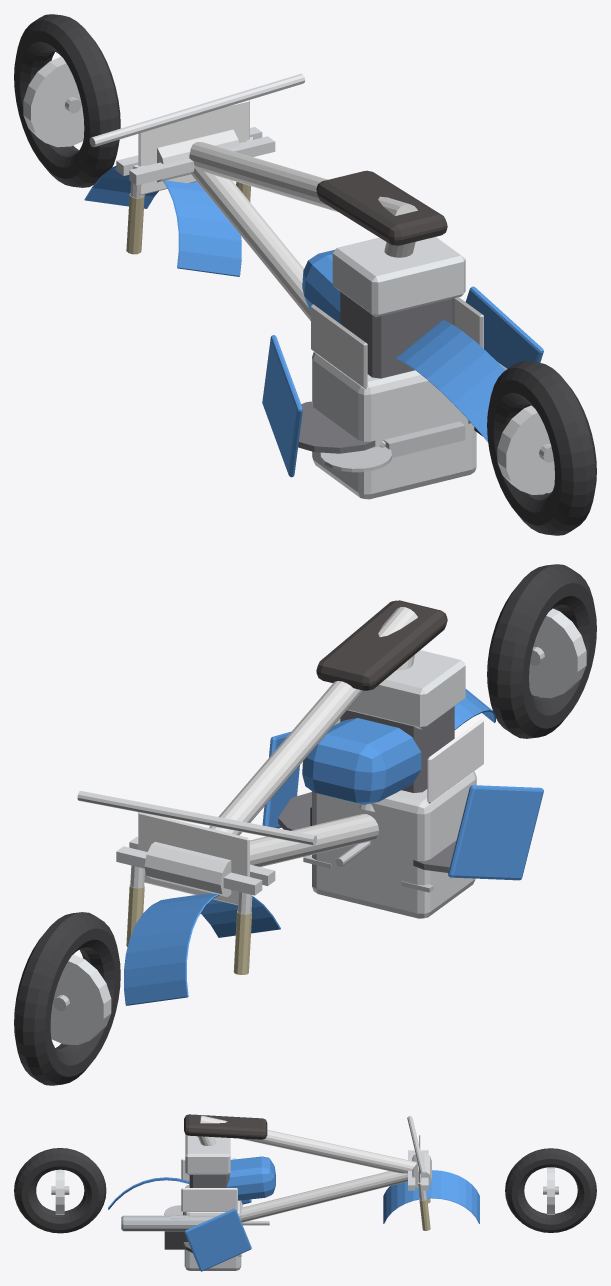
3 renders of one model, top to bottom at view 1: azimuth 30°, elevation 25°; view 2: azimuth 150°, elevation 25°; view 3: azimuth 270°, elevation 25°, orthographic. The views are drawn at different scales.
Parts seen in each view (by area): view 1: b_engine_case, b_rear_wheel_tire, b_front_wheel_tire, b_engine_head, b_front_fender, b_rear_fender, b_seat, b_engine_cyl, b_frame_down, b_frame_spine, b_front_wheel_rim, b_rear_wheel_rim (+13 smaller); view 2: b_engine_case, b_rear_wheel_tire, b_front_wheel_tire, b_front_fender, b_tank, b_shroud_-1, b_seat, b_frame_spine, b_engine_head, b_front_plate, b_front_wheel_rim, b_rear_wheel_rim (+10 smaller); view 3: b_rear_wheel_tire, b_front_wheel_tire, b_shroud_1, b_frame_down, b_frame_spine, b_front_fender, b_tank, b_seat, b_engine_head, b_sideplate_1, b_silencer, b_engine_case (+8 smaller).
Boxes of the visible parts, left/top/right/bottom form: b_engine_case: left=312, top=352, right=476, bottom=499; b_rear_wheel_tire: left=487, top=361, right=596, bottom=535; b_front_wheel_tire: left=14, top=14, right=120, bottom=187; b_engine_head: left=332, top=237, right=465, bottom=317; b_front_fender: left=84, top=166, right=241, bottom=276; b_rear_fender: left=396, top=320, right=505, bottom=442; b_seat: left=316, top=170, right=447, bottom=245; b_engine_cyl: left=340, top=291, right=454, bottom=378; b_frame_down: left=190, top=166, right=310, bottom=320; b_frame_spine: left=189, top=142, right=417, bottom=215; b_front_wheel_rim: left=23, top=56, right=84, bottom=147; b_rear_wheel_rim: left=497, top=405, right=554, bottom=494; b_engine_case: left=312, top=771, right=476, bottom=918; b_rear_wheel_tire: left=487, top=564, right=596, bottom=738; b_front_wheel_tire: left=14, top=912, right=120, bottom=1085; b_front_fender: left=124, top=893, right=280, bottom=1005; b_tank: left=302, top=718, right=421, bottom=804; b_shroud_-1: left=448, top=785, right=543, bottom=880; b_seat: left=316, top=600, right=447, bottom=690; b_frame_spine: left=209, top=607, right=417, bottom=835; b_engine_head: left=347, top=650, right=465, bottom=729; b_front_plate: left=138, top=812, right=249, bottom=905; b_front_wheel_rim: left=50, top=954, right=111, bottom=1045; b_rear_wheel_rim: left=529, top=608, right=586, bottom=698; b_rear_wheel_tire: left=14, top=1148, right=106, bottom=1233; b_front_wheel_tire: left=505, top=1148, right=596, bottom=1232; b_shroud_1: left=184, top=1208, right=251, bottom=1271; b_frame_down: left=241, top=1171, right=407, bottom=1222; b_frame_spine: left=200, top=1115, right=416, bottom=1173; b_front_fender: left=383, top=1170, right=479, bottom=1223; b_tank: left=226, top=1156, right=275, bottom=1200; b_seat: left=184, top=1114, right=267, bottom=1139; b_engine_head: left=185, top=1134, right=230, bottom=1174; b_sideplate_1: left=181, top=1188, right=237, bottom=1211; b_silencer: left=121, top=1215, right=217, bottom=1231; b_engine_case: left=184, top=1184, right=241, bottom=1270.
Size of the model in its own units: 0.8806 by 0.9378 by 3.49.
